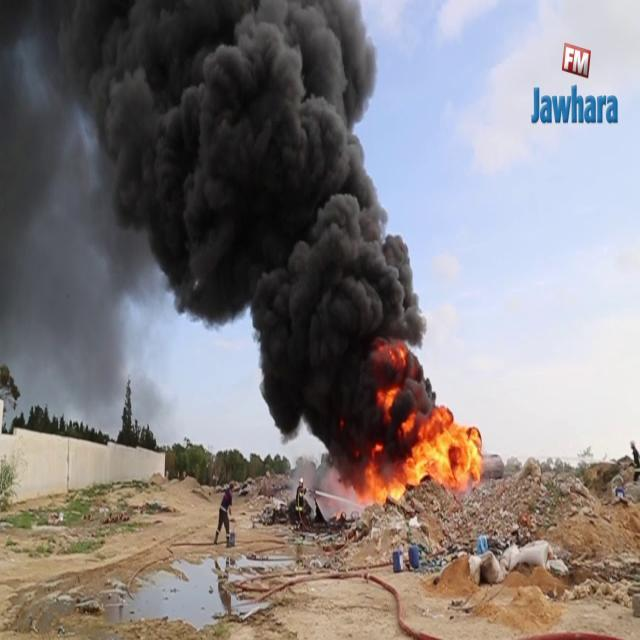Fire: (362, 399, 482, 502)
Smoke: (153, 3, 405, 306), (0, 1, 148, 428), (255, 312, 428, 397)
